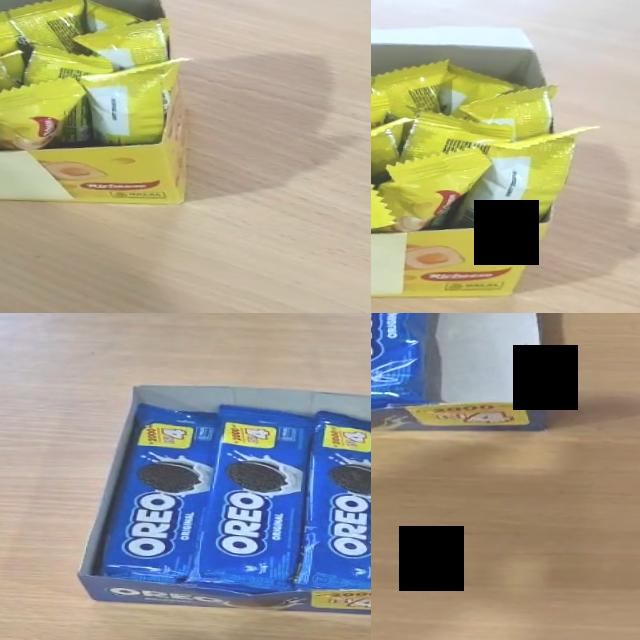Ahh: (446, 120, 600, 233), (371, 140, 494, 235), (76, 53, 190, 148), (20, 41, 116, 148), (0, 74, 87, 153), (397, 108, 515, 166), (452, 82, 560, 144), (69, 14, 171, 71), (438, 62, 528, 118), (371, 55, 448, 119), (0, 0, 89, 55), (371, 113, 414, 186), (82, 0, 148, 35), (0, 46, 27, 98), (0, 18, 24, 71)
Oreo: (179, 403, 312, 595), (100, 402, 220, 586), (291, 408, 371, 592), (371, 313, 447, 419)
